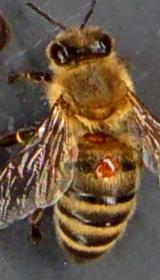varroa_mite: (87, 154, 125, 188)
